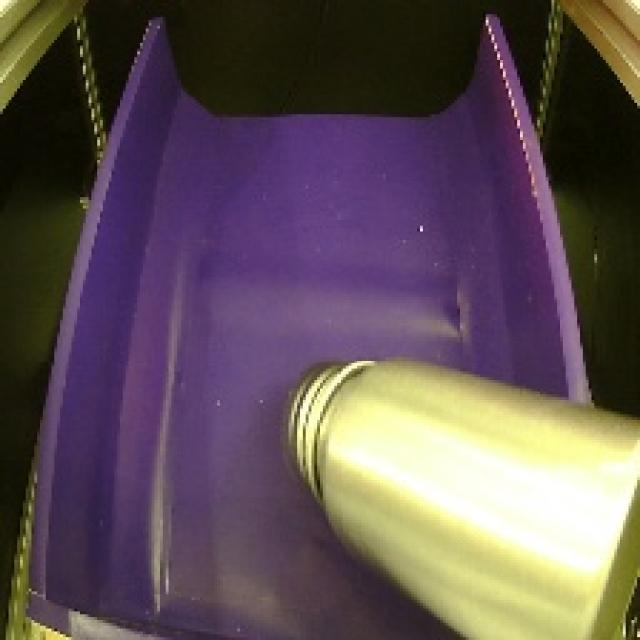metal: (268, 337, 640, 640)
